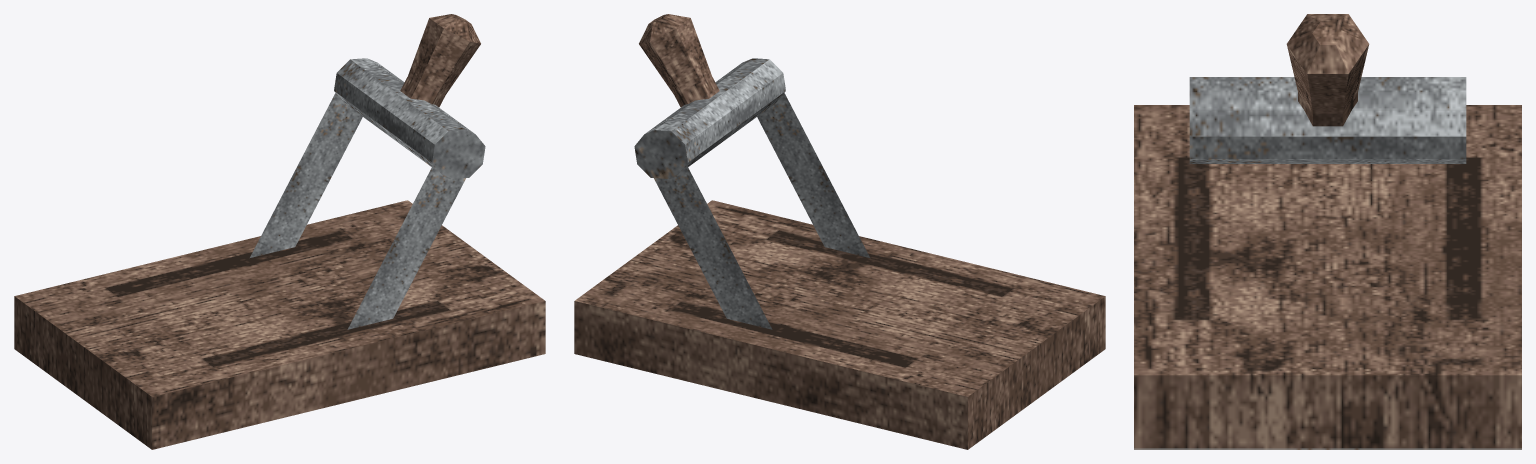
File: palanca.fbx
3 views of the same model, side by side, from view 1: azimuth 30°, elevation 25°; view 2: azimuth 150°, elevation 25°; view 3: azimuth 270°, elevation 25° (orthographic). The views are drawn at different scales.
Visible parts, largest first — view 1: Base, Plane, Cube.001, Agarre; view 2: Base, Plane, Cube.001, Agarre; view 3: Base, Cube.001, Agarre.
Part boxes in pixels (<box>): Base: <box>14,200,545,449</box>; Plane: <box>250,93,465,329</box>; Cube.001: <box>334,58,485,178</box>; Agarre: <box>400,14,480,107</box>; Base: <box>574,200,1105,449</box>; Plane: <box>654,93,869,329</box>; Cube.001: <box>634,58,785,178</box>; Agarre: <box>639,14,719,107</box>; Base: <box>1134,105,1521,449</box>; Cube.001: <box>1189,77,1466,163</box>; Agarre: <box>1286,14,1369,126</box>.
Bounding box in the file's own units: 47.93 × 79.07 × 56.27.
Materials: 1 (1 with a texture image).
